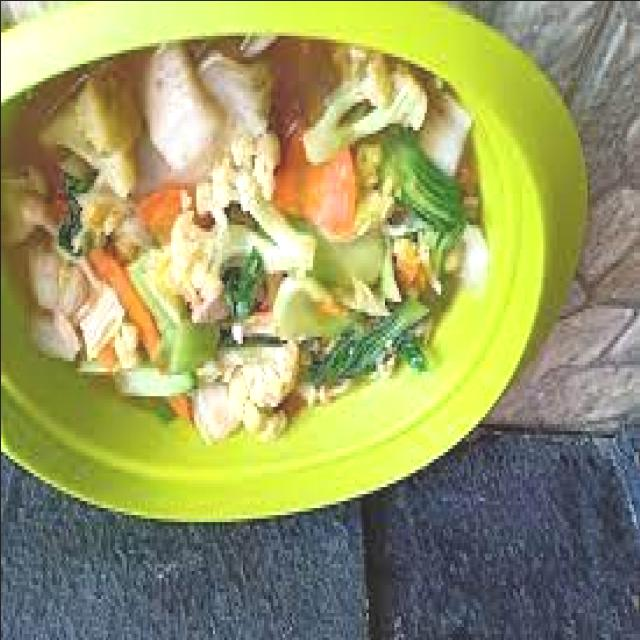capcay: (16, 31, 486, 441)
